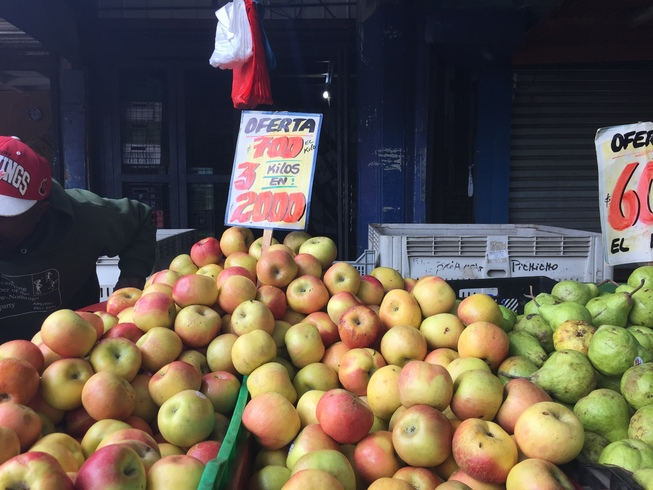precio: (211, 104, 328, 238), (586, 123, 653, 275)
